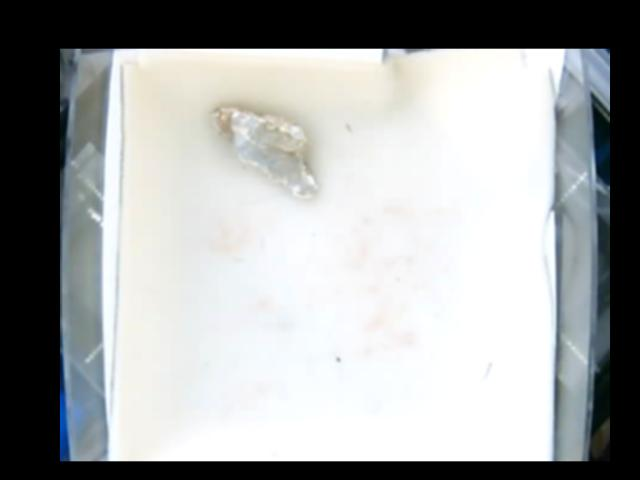Brisk: (207, 106, 319, 197)
